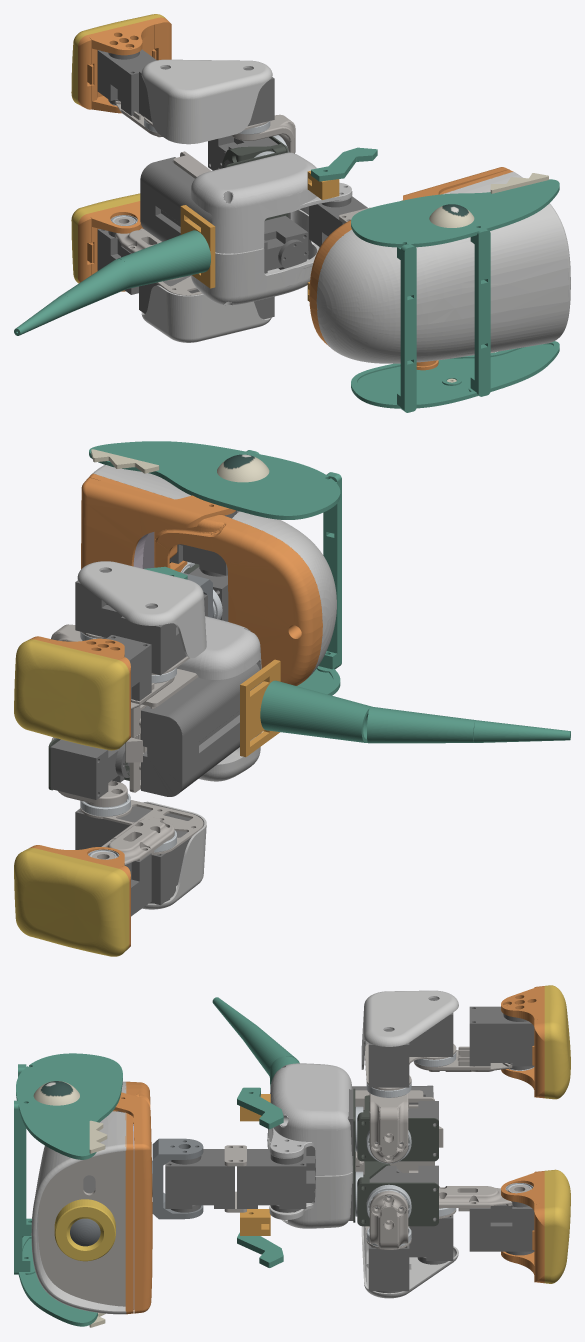
Rendered from micro_rex.glb.
3 renders of one model, top to bottom at view 1: azimuth 30°, elevation 25°; view 2: azimuth 150°, elevation 25°; view 3: azimuth 270°, elevation 25°, orthographic. The views are drawn at different scales.
Parts seen in each view (by area): view 1: stock_45, stock_17, stock_9, skull_cheek_left, skull_cheek_right, stock_1, stock_65, stock_7, tail_segment_1, head_bridge_1, head_bridge_2, stock_24 (+24 smaller); view 2: stock_52, stock_25, stock_71, skull_cheek_left, stock_7, stock_51, stock_17, tail_segment_1, stock_45, stock_57, tail_segment_2, stock_9 (+20 smaller); view 3: stock_41, stock_9, skull_cheek_left, stock_51, stock_17, stock_31, stock_32, stock_45, stock_24, stock_67, stock_71, stock_25 (+35 smaller).
Part boxes in pixels (x1=…): stock_45: x1=316, y1=172, x2=570, y2=363; stock_17: x1=141, y1=59, x2=272, y2=144; stock_9: x1=190, y1=152, x2=352, y2=253; skull_cheek_left: x1=351, y1=179, x2=559, y2=247; skull_cheek_right: x1=351, y1=341, x2=559, y2=408; stock_1: x1=191, y1=209, x2=319, y2=305; stock_65: x1=141, y1=285, x2=271, y2=342; stock_7: x1=140, y1=157, x2=212, y2=241; tail_segment_1: x1=118, y1=230, x2=210, y2=288; head_bridge_1: x1=397, y1=244, x2=416, y2=412; head_bridge_2: x1=470, y1=229, x2=490, y2=396; stock_24: x1=97, y1=49, x2=156, y2=115; stock_52: x1=88, y1=473, x2=322, y2=685; stock_25: x1=14, y1=639, x2=129, y2=750; stock_71: x1=14, y1=848, x2=129, y2=956; skull_cheek_left: x1=89, y1=441, x2=340, y2=519; stock_7: x1=141, y1=663, x2=260, y2=796; stock_51: x1=81, y1=478, x2=235, y2=568; stock_17: x1=77, y1=561, x2=206, y2=658; tail_segment_1: x1=260, y1=680, x2=372, y2=742; stock_45: x1=91, y1=465, x2=336, y2=678; stock_57: x1=50, y1=739, x2=129, y2=799; tail_segment_2: x1=367, y1=707, x2=475, y2=743; stock_9: x1=177, y1=616, x2=261, y2=682; stock_41: x1=38, y1=1151, x2=125, y2=1306; stock_9: x1=267, y1=1063, x2=352, y2=1175; skull_cheek_left: x1=16, y1=1053, x2=122, y2=1159; stock_51: x1=113, y1=1092, x2=152, y2=1313; stock_17: x1=361, y1=990, x2=458, y2=1069; stock_31: x1=237, y1=1149, x2=306, y2=1212; stock_32: x1=165, y1=1149, x2=234, y2=1212; stock_45: x1=31, y1=1081, x2=126, y2=1314; stock_24: x1=469, y1=1006, x2=534, y2=1070; stock_67: x1=469, y1=1201, x2=534, y2=1255; stock_71: x1=544, y1=1169, x2=570, y2=1283; stock_25: x1=544, y1=985, x2=570, y2=1099.
Bounding box in the file's own units: 0.2791 × 0.141 × 0.2725.
